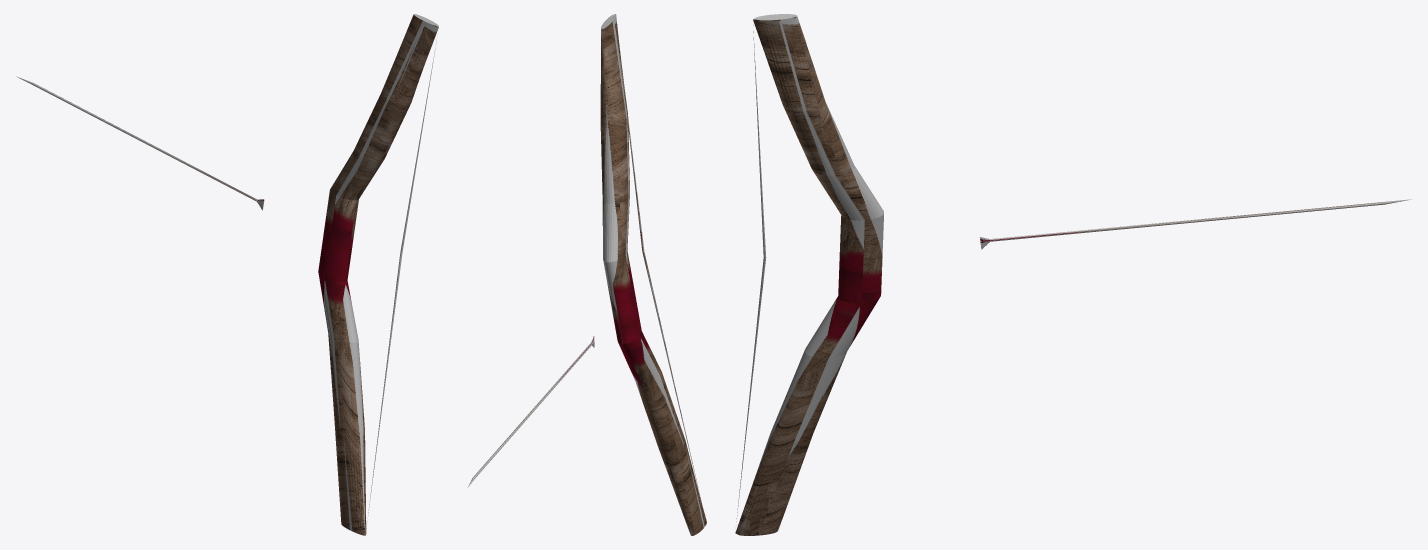
Rendered from Arco23.obj.
3 views of the same model, side by side, from view 1: azimuth 30°, elevation 25°; view 2: azimuth 150°, elevation 25°; view 3: azimuth 270°, elevation 25° (orthographic). The views are drawn at different scales.
Visible parts, largest first — view 1: Cilindro; view 2: Cilindro; view 3: Cilindro.
Boxes of the visible parts, box(x1,y1,x2,y2) form: Cilindro: box(16, 14, 438, 535); Cilindro: box(467, 14, 706, 535); Cilindro: box(735, 14, 1411, 535).
Bounding box in the file's own units: 0.2952 × 0.9705 × 1.06.
Materials: 1 (1 with a texture image).
